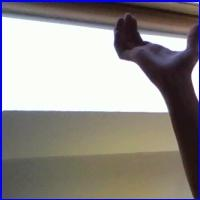space: (101, 10, 198, 83)
